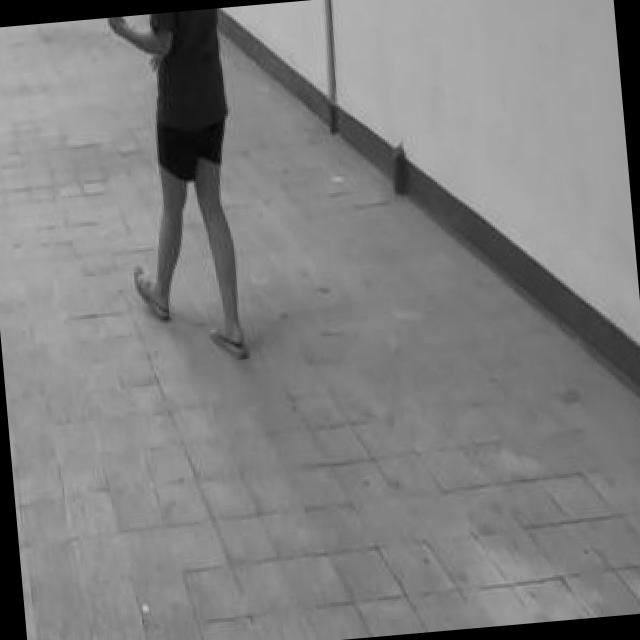Guns: (89, 16, 126, 33)
